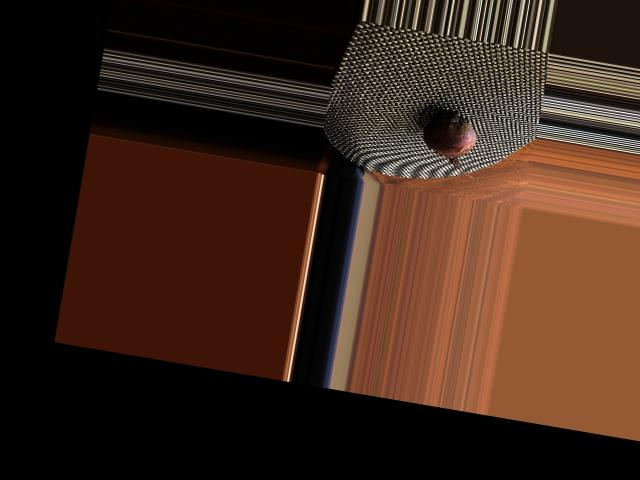beet: (410, 102, 489, 178)
